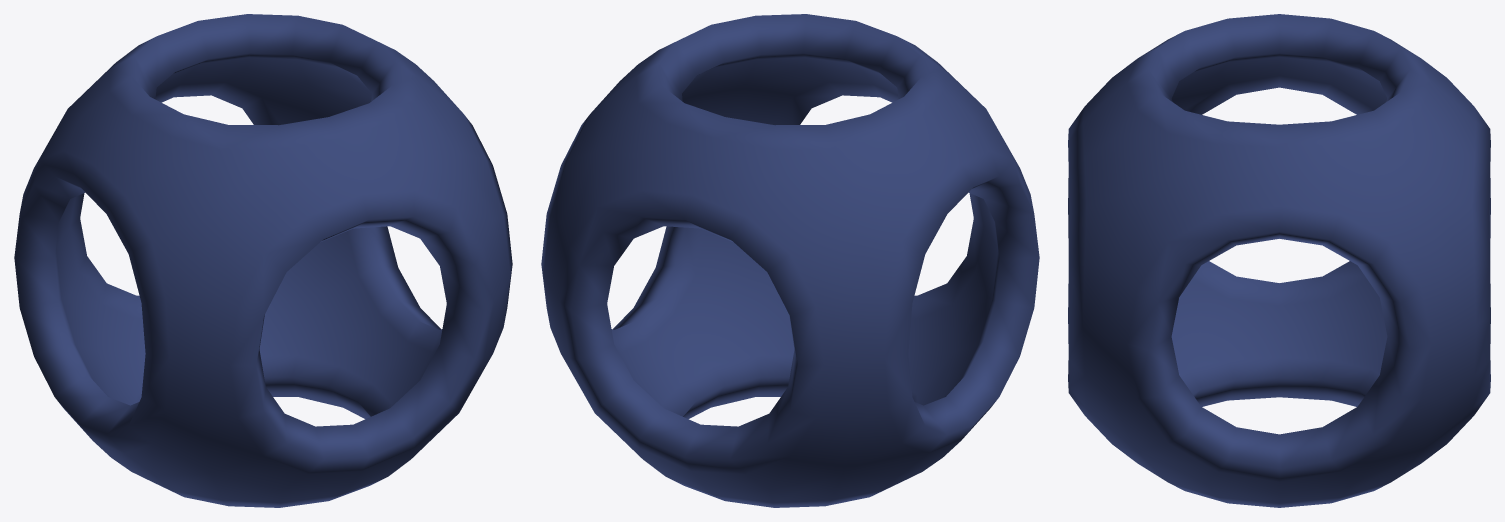
3 views of the same model, side by side, from view 1: azimuth 30°, elevation 25°; view 2: azimuth 150°, elevation 25°; view 3: azimuth 270°, elevation 25° (orthographic).
Visible parts, largest first — view 1: Cage_01; view 2: Cage_01; view 3: Cage_01.
Boxes of the visible parts, left/top/right/bottom form: Cage_01: left=14, top=14, right=512, bottom=507; Cage_01: left=541, top=14, right=1039, bottom=507; Cage_01: left=1068, top=14, right=1490, bottom=507.
Bounding box in the file's own units: 265 × 265 × 265.
Materials: 1 (1 with a texture image).
